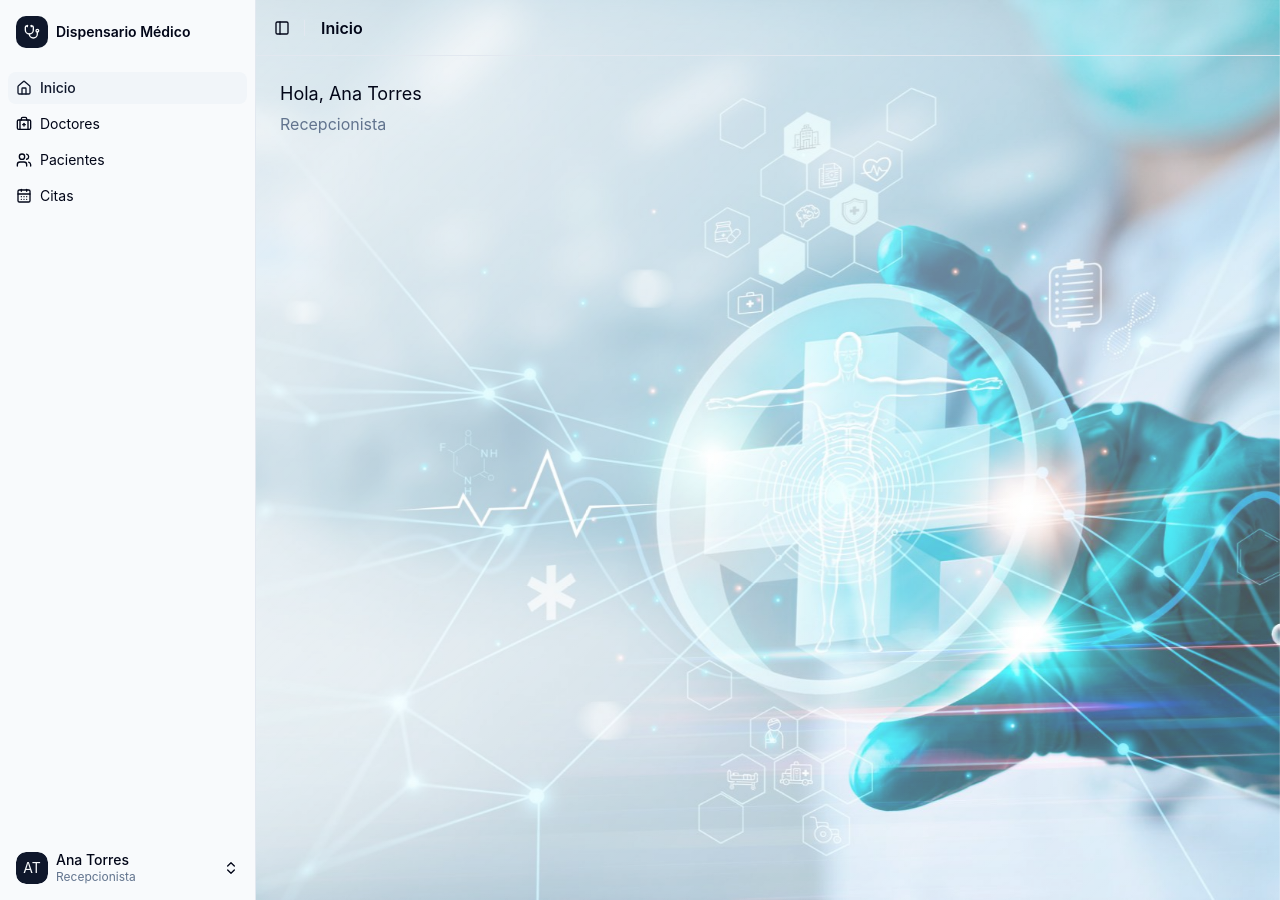
AppRoutes › logs out, removing the token, and goes to the login
Expected: the text "Hola, Ana Torres" is shown, x1=280 y1=83 x2=422 y2=104
Click the button with aria-label "Menú de usuario" at (128, 868), box x1=8 y1=844 x2=247 y2=892
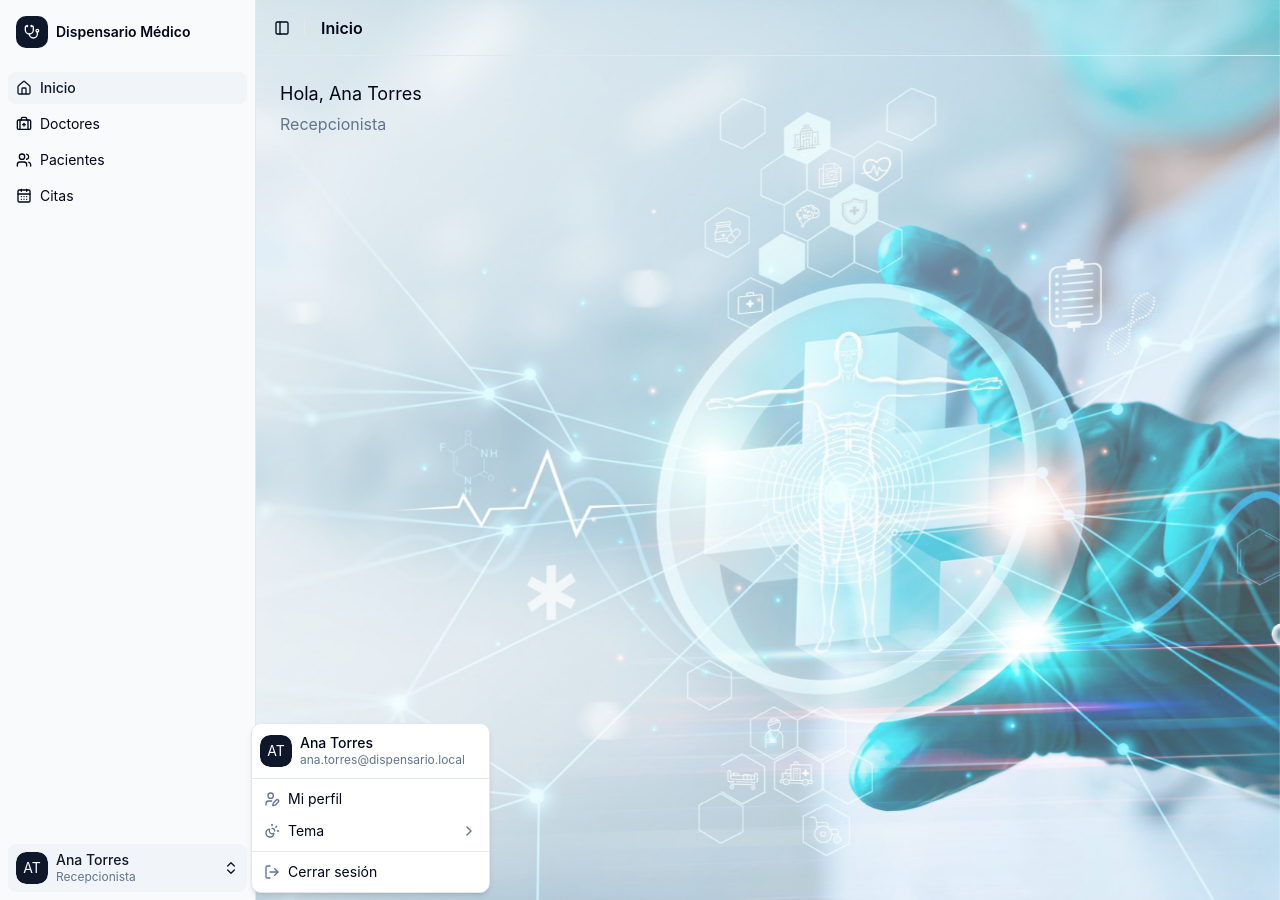
Click the menu item "Cerrar sesión" at (321, 871), box x1=264 y1=862 x2=377 y2=880
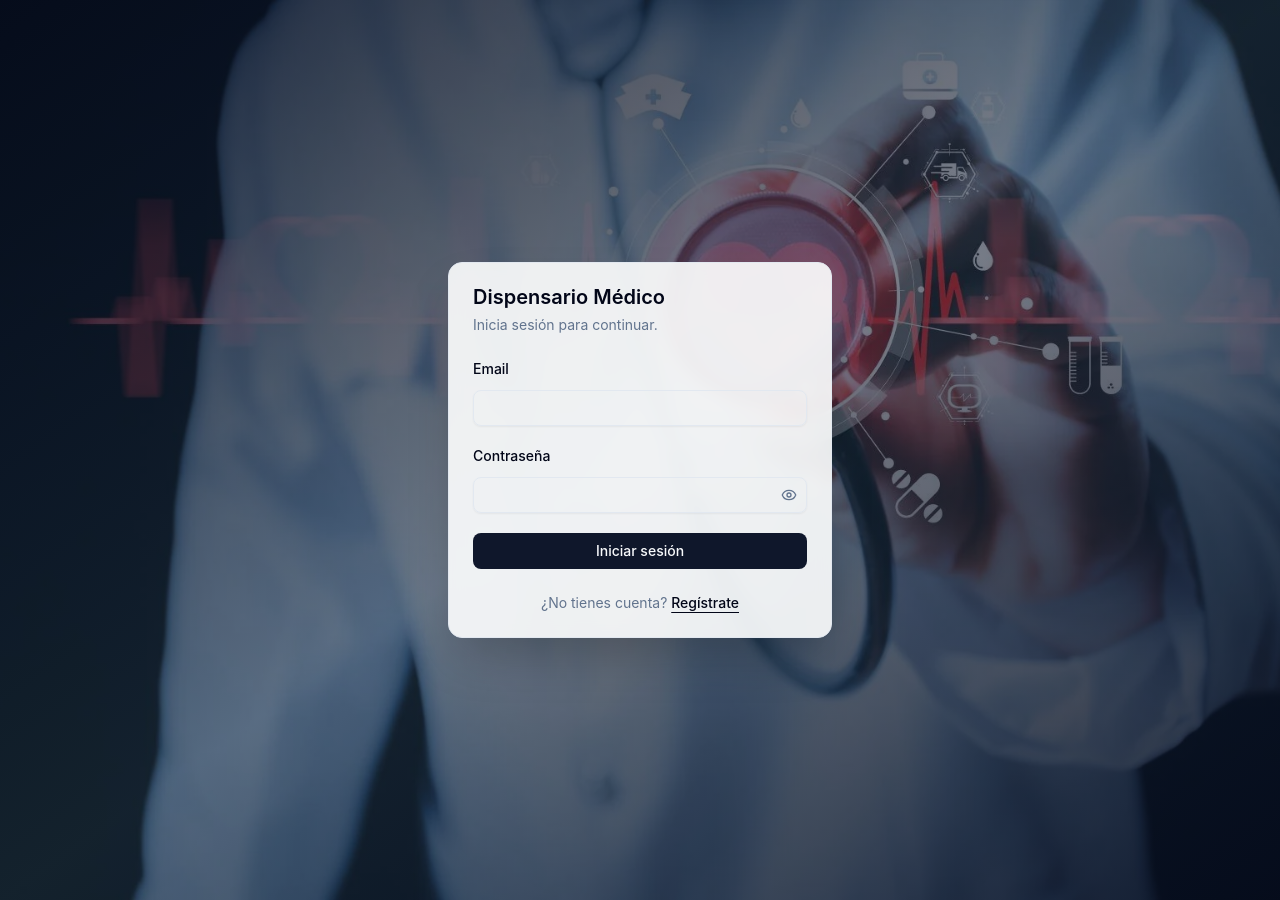
Result: the button "Iniciar sesión" is shown at x1=473 y1=533 x2=807 y2=569
